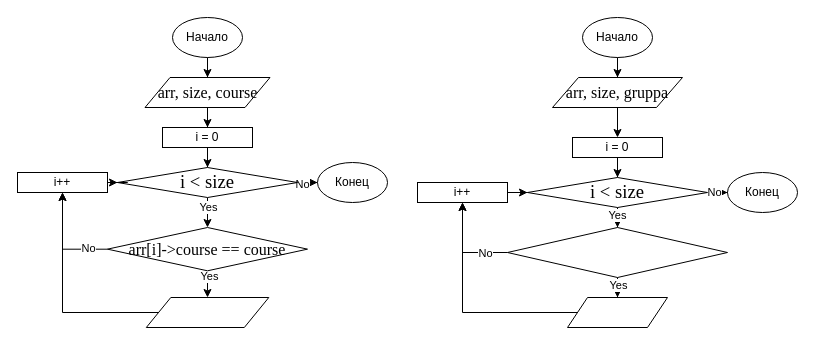
This 815x345 diagram has some shape labels left out. Here are the shapes that lost their labels. From the top down, the box of each, then its label:
(506, 226, 728, 278): arr[i]->gruppa == gruppa
(145, 296, 269, 328): arr[i]->gruppa
(566, 296, 668, 328): arr[i]->FIO
